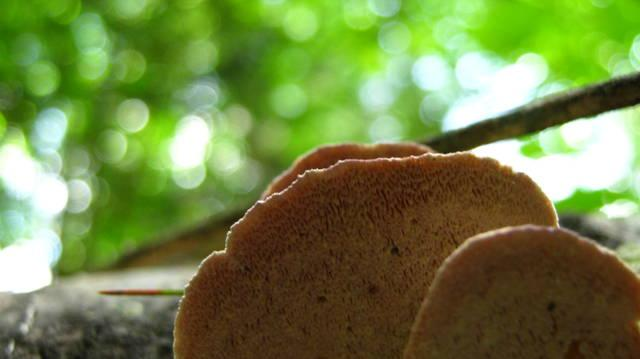Non-edible Mushroom: (171, 141, 559, 357), (402, 222, 639, 358)
